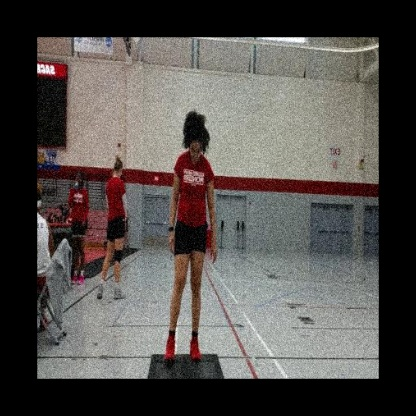lateral_flexion_normal: (162, 107, 220, 371)
stance_width_narrow: (161, 151, 218, 369)
